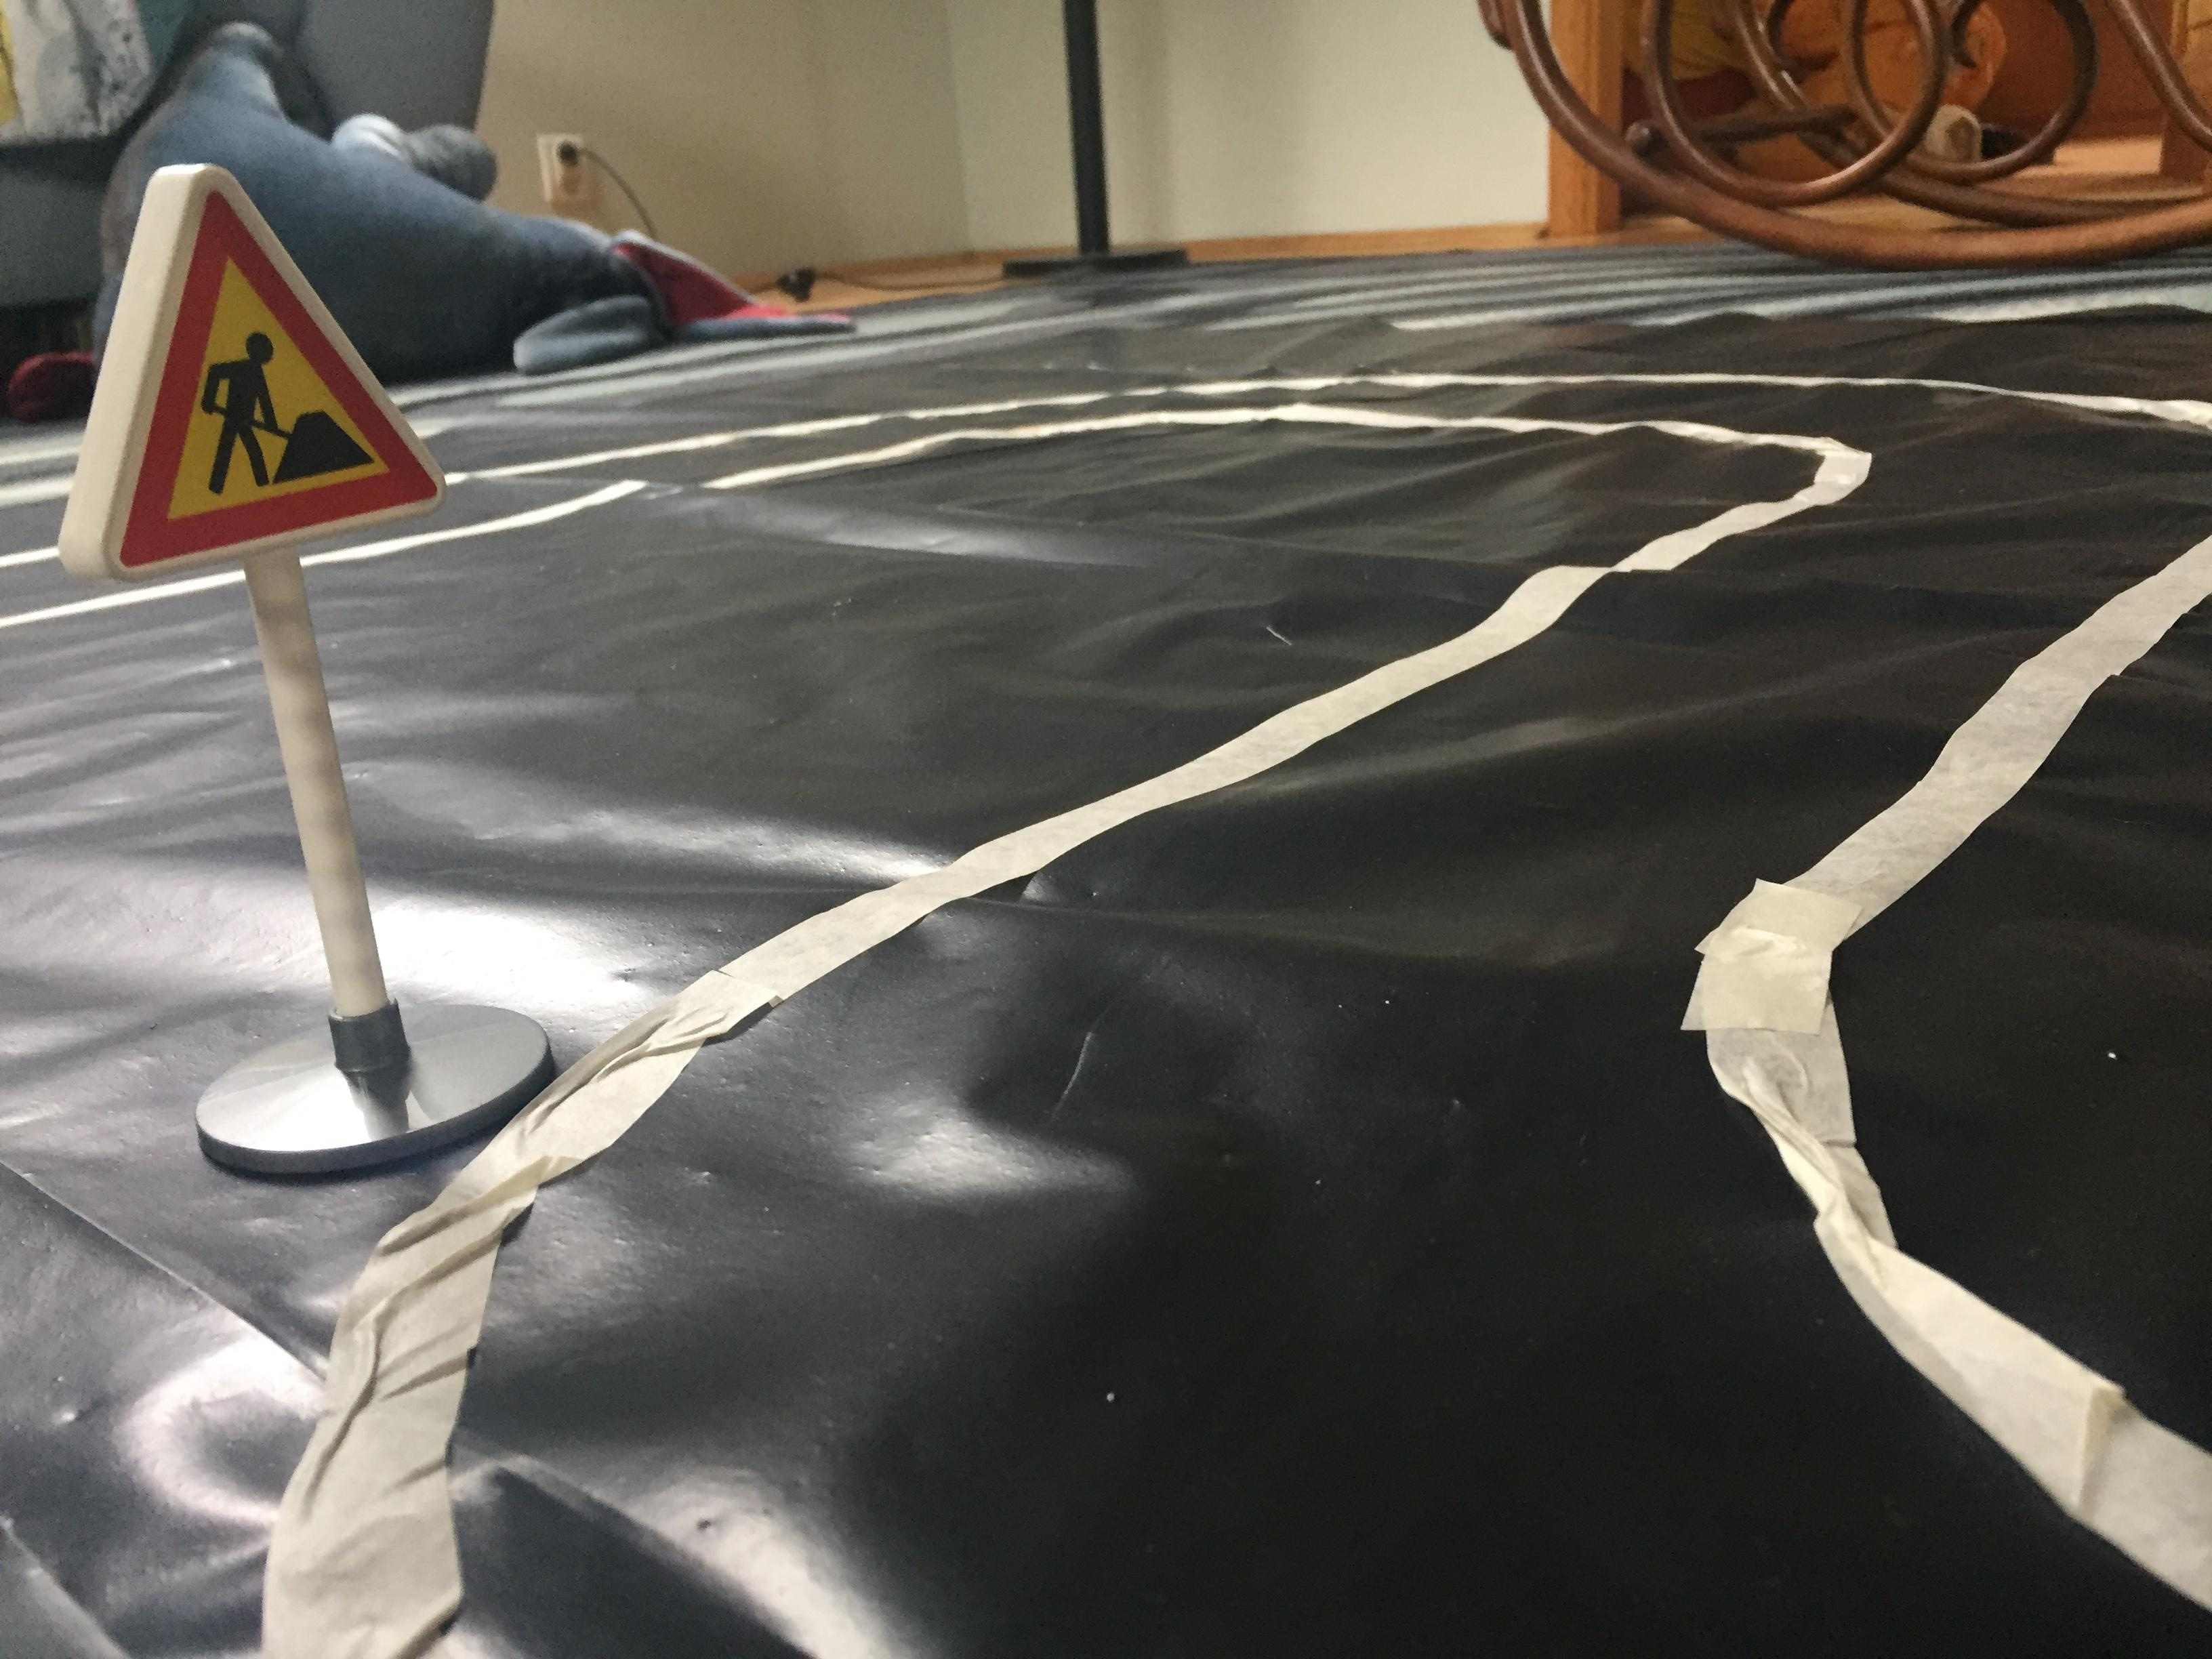work: (44, 132, 467, 598)
